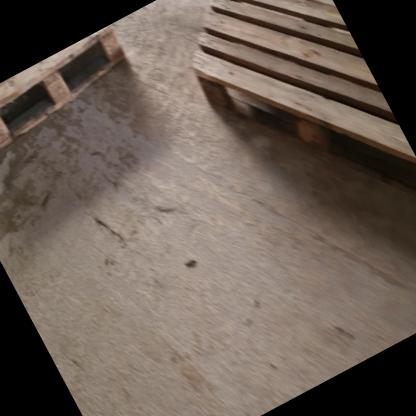BoxFace: (185, 0, 416, 203), (0, 26, 133, 155)
